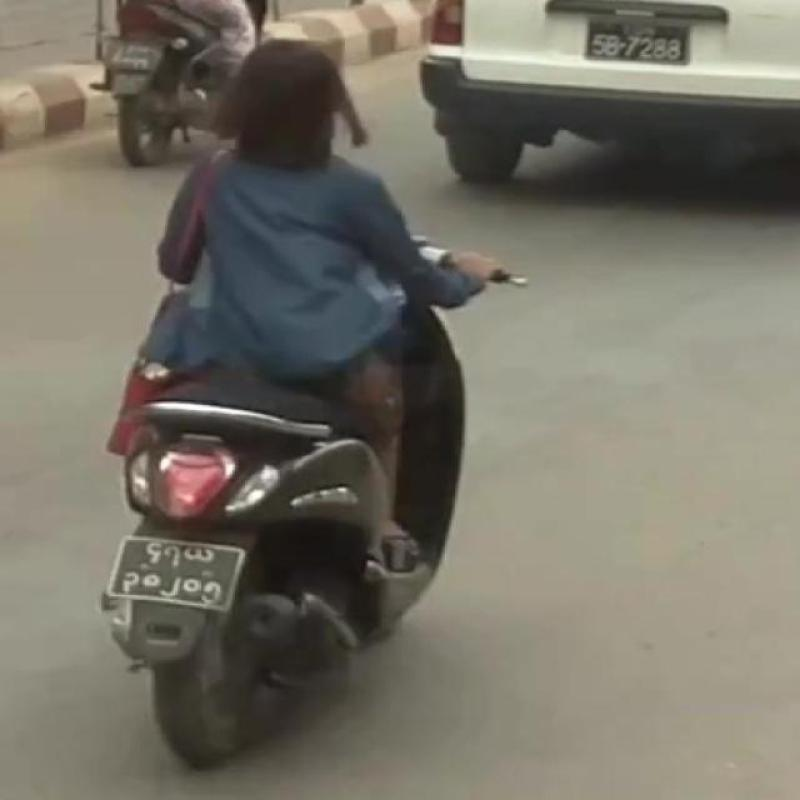nohelmet: (211, 32, 398, 158)
